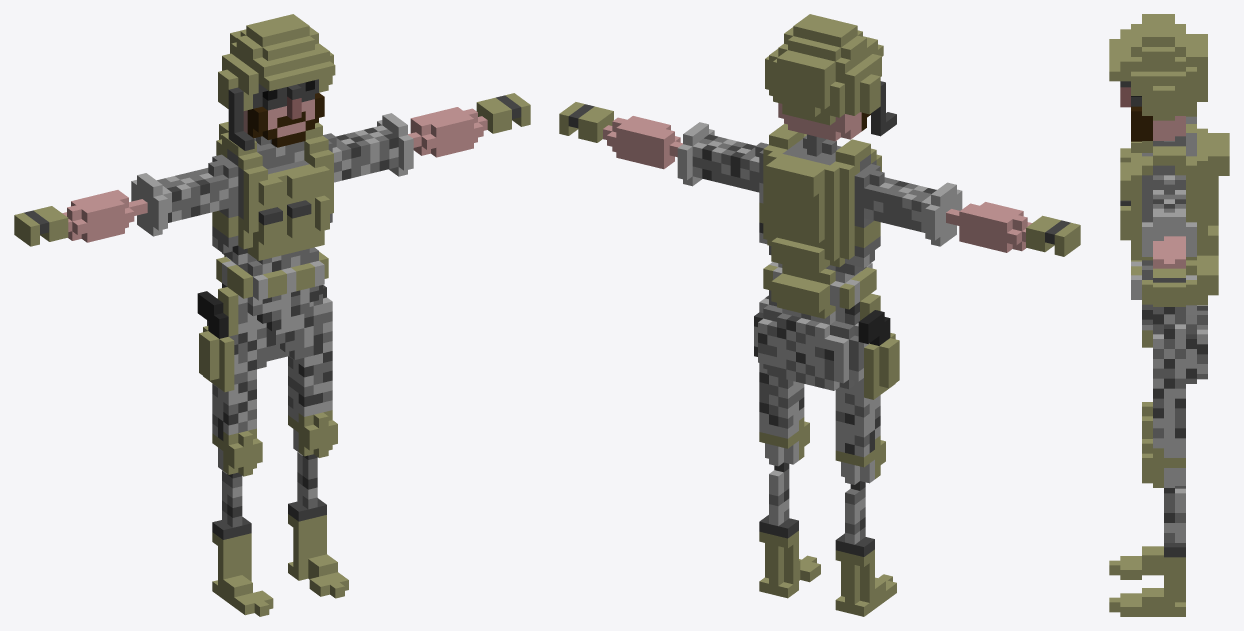
File: soldier_no_gun.obj
The picture shows the model from 3 angles, left to right: view 1: azimuth 30°, elevation 25°; view 2: azimuth 150°, elevation 25°; view 3: azimuth 270°, elevation 25°; orthographic projection.
Size of the model in its own units: 5.3 by 5.7 by 1.1.
1 material, 1 textured.
